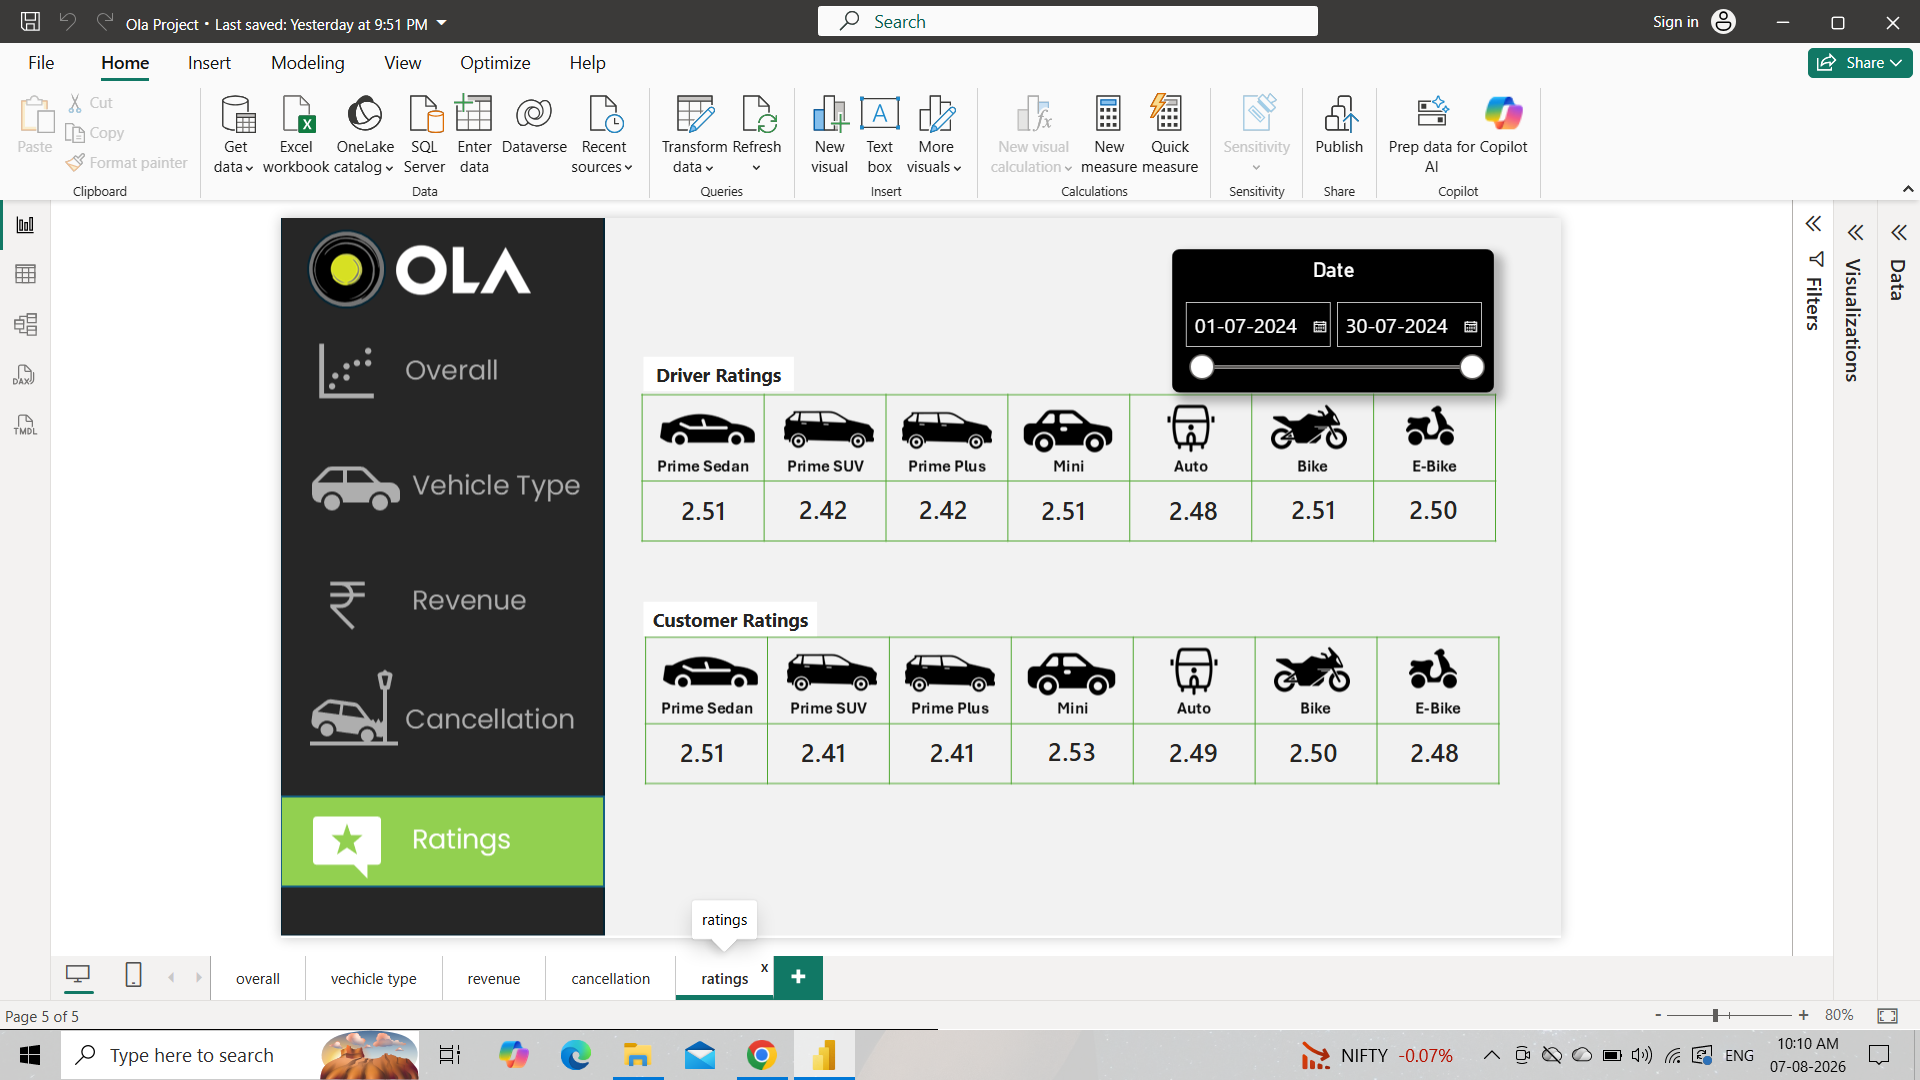

What the dashboard file says about the page in this screenshot:
{"tool":"powerbi","page":{"name":"ratings","canvas":[1280,720],"ordinal":4},"visuals":[{"type":"actionButton","box":[0,216.9,324,104.4],"z":0},{"type":"actionButton","box":[0,104.4,324,96.4],"z":1000},{"type":"actionButton","box":[0,321.3,324,96.4],"z":2000},{"type":"actionButton","box":[0,439.2,324,115.1],"z":3000},{"type":"actionButton","box":[0,554.3,324,133.9],"z":4000},{"type":"cardVisual","fields":{"Data":["Avg(booking2-July.Driver_Ratings)"]},"box":[362,265.1,120.7,56],"z":5000},{"type":"cardVisual","fields":{"Data":["Avg(booking2-July.Driver_Ratings)"]},"box":[482.1,264.3,120.7,56],"z":6000},{"type":"cardVisual","fields":{"Data":["Avg(booking2-July.Driver_Ratings)"]},"box":[1092.9,264.3,120.7,56],"z":7000},{"type":"cardVisual","fields":{"Data":["Avg(booking2-July.Driver_Ratings)"]},"box":[972.6,264.3,120.7,56],"z":8000},{"type":"cardVisual","fields":{"Data":["Avg(booking2-July.Driver_Ratings)"]},"box":[852.4,265.5,120.7,56],"z":9000},{"type":"cardVisual","fields":{"Data":["Avg(booking2-July.Driver_Ratings)"]},"box":[722.6,265.5,120.7,56],"z":10000},{"type":"cardVisual","fields":{"Data":["Avg(booking2-July.Driver_Ratings)"]},"box":[602.4,264.3,120.7,56],"z":11000},{"type":"cardVisual","fields":{"Data":["Avg(booking2-July.Customer_Rating)"]},"box":[361.8,507.7,120.7,56],"z":12000},{"type":"cardVisual","fields":{"Data":["Avg(booking2-July.Customer_Rating)"]},"box":[731.4,505.8,120.7,56],"z":13000},{"type":"cardVisual","fields":{"Data":["Avg(booking2-July.Customer_Rating)"]},"box":[610.8,507.7,120.7,56],"z":14000},{"type":"cardVisual","fields":{"Data":["Avg(booking2-July.Customer_Rating)"]},"box":[482.4,507.7,120.7,56],"z":15000},{"type":"cardVisual","fields":{"Data":["Avg(booking2-July.Customer_Rating)"]},"box":[1093.3,507.7,120.7,56],"z":16000},{"type":"cardVisual","fields":{"Data":["Avg(booking2-July.Customer_Rating)"]},"box":[972.6,507.7,120.7,56],"z":17000},{"type":"cardVisual","fields":{"Data":["Avg(booking2-July.Customer_Rating)"]},"box":[852,507.7,120.7,56],"z":18000},{"type":"textbox","box":[361.9,139.3,150,34.5],"z":19000},{"type":"textbox","box":[361.9,383.3,173.8,34.5],"z":20000},{"type":"slicer","title":"Date","fields":{"Values":["booking2-July.Date"]},"box":[891.7,31,321.4,142.9],"z":21000}]}

Visuals, with their boxes on the page's 1280x720 design canvas (x1, y1, x2, y2). These are canvas units, not pixel positions in the 1920x1080 screenshot, which may show the page scaled, cropped or inside an application window:
actionButton: (0,217,324,321)
actionButton: (0,104,324,201)
actionButton: (0,321,324,418)
actionButton: (0,439,324,554)
actionButton: (0,554,324,688)
cardVisual - Avg(booking2-July.Driver_Ratings): (362,265,483,321)
cardVisual - Avg(booking2-July.Driver_Ratings): (482,264,603,320)
cardVisual - Avg(booking2-July.Driver_Ratings): (1093,264,1214,320)
cardVisual - Avg(booking2-July.Driver_Ratings): (973,264,1093,320)
cardVisual - Avg(booking2-July.Driver_Ratings): (852,266,973,322)
cardVisual - Avg(booking2-July.Driver_Ratings): (723,266,843,322)
cardVisual - Avg(booking2-July.Driver_Ratings): (602,264,723,320)
cardVisual - Avg(booking2-July.Customer_Rating): (362,508,482,564)
cardVisual - Avg(booking2-July.Customer_Rating): (731,506,852,562)
cardVisual - Avg(booking2-July.Customer_Rating): (611,508,732,564)
cardVisual - Avg(booking2-July.Customer_Rating): (482,508,603,564)
cardVisual - Avg(booking2-July.Customer_Rating): (1093,508,1214,564)
cardVisual - Avg(booking2-July.Customer_Rating): (973,508,1093,564)
cardVisual - Avg(booking2-July.Customer_Rating): (852,508,973,564)
textbox: (362,139,512,174)
textbox: (362,383,536,418)
"Date" slicer: (892,31,1213,174)
